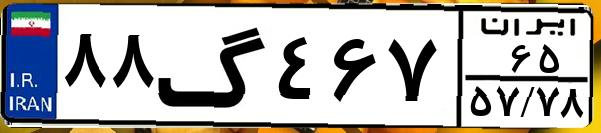4: (270, 28, 330, 110)
5: (537, 27, 568, 80), (470, 70, 495, 125)
6: (330, 28, 385, 110), (508, 27, 537, 80)
7: (385, 28, 445, 110), (495, 70, 520, 125), (535, 70, 560, 125)
8: (57, 26, 110, 100), (110, 28, 156, 98), (560, 70, 590, 125)
گ: (156, 12, 270, 120)
